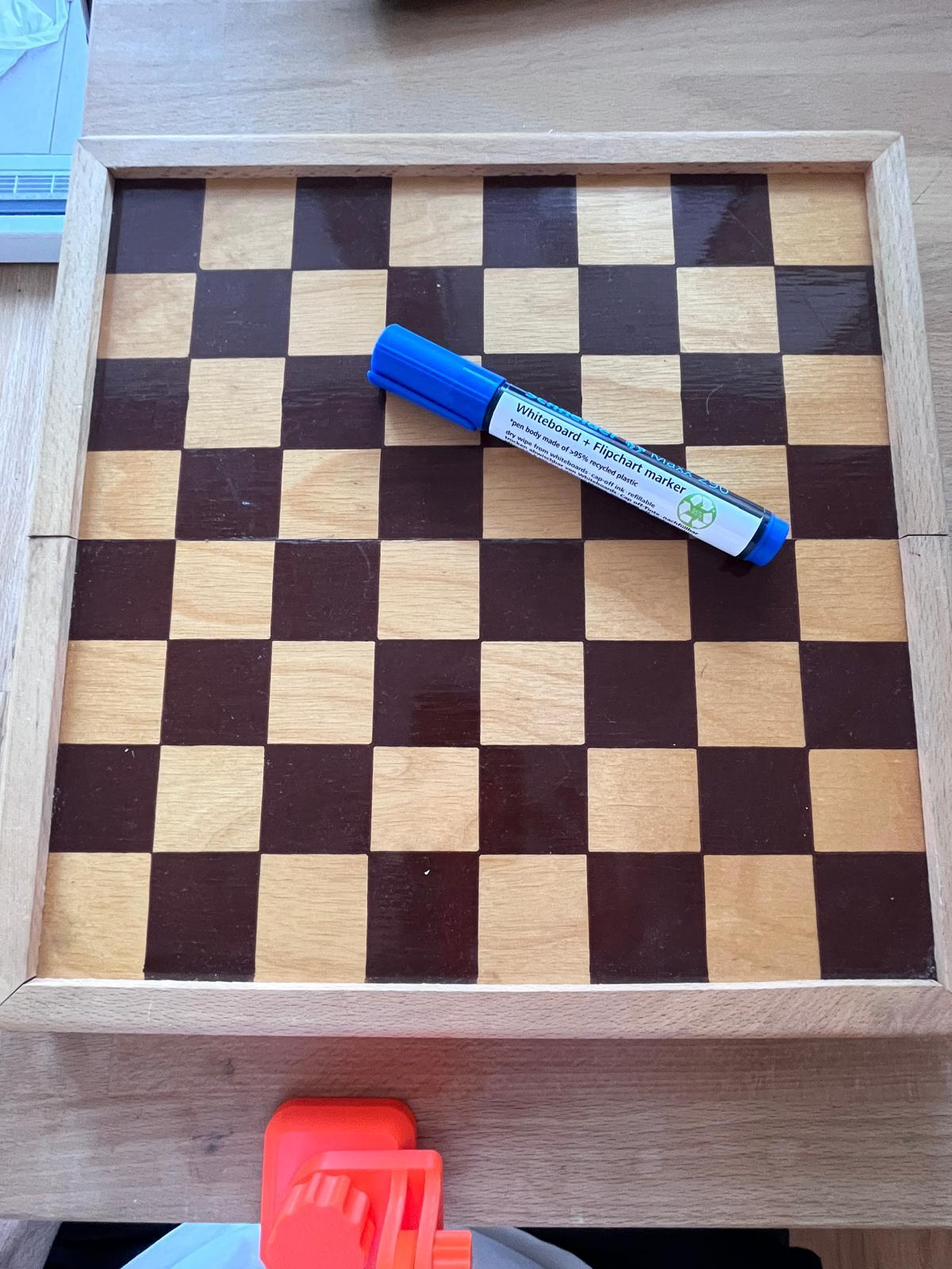marker: (370, 320, 795, 574)
